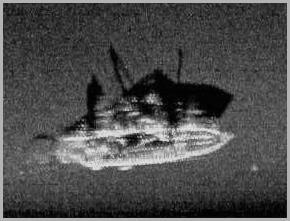ship: (51, 88, 234, 172)
